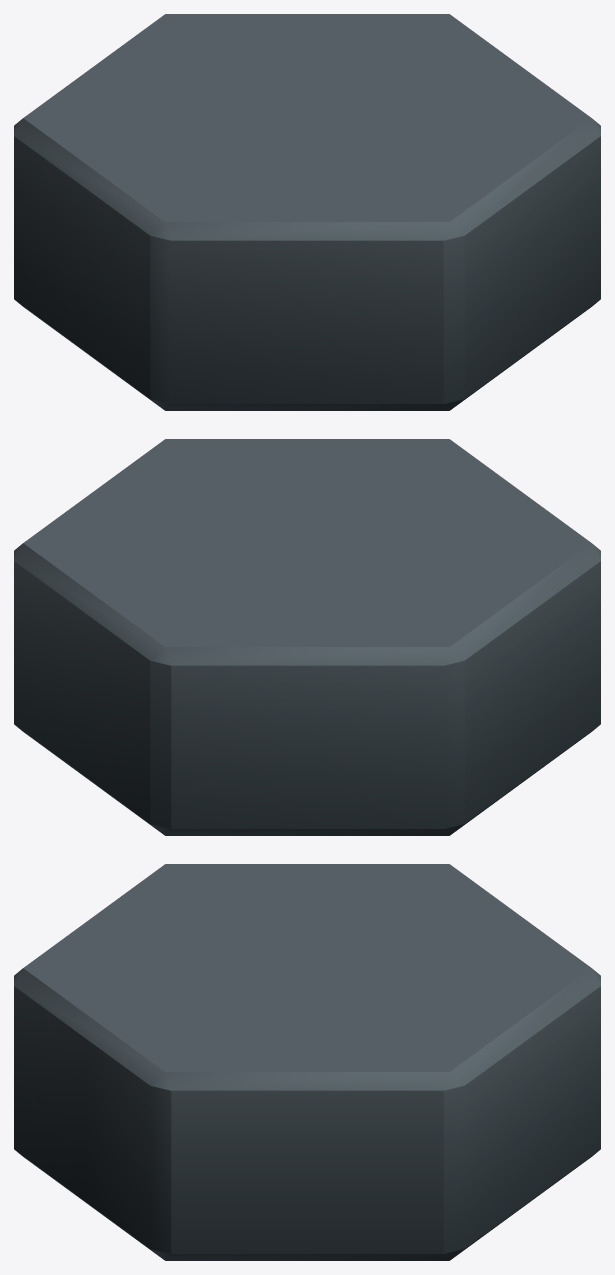
Rendered from Solo_Hex.fbx.
3 renders of one model, top to bottom at view 1: azimuth 30°, elevation 25°; view 2: azimuth 150°, elevation 25°; view 3: azimuth 270°, elevation 25°, orthographic.
Visible parts, largest first — view 1: Solo Hex; view 2: Solo Hex; view 3: Solo Hex.
Part boxes in pixels (left/top/right/bottom): Solo Hex: left=14, top=14, right=600, bottom=410; Solo Hex: left=14, top=439, right=600, bottom=835; Solo Hex: left=14, top=864, right=600, bottom=1260.
Bounding box in the file's own units: 73.15 × 29.28 × 82.49.
